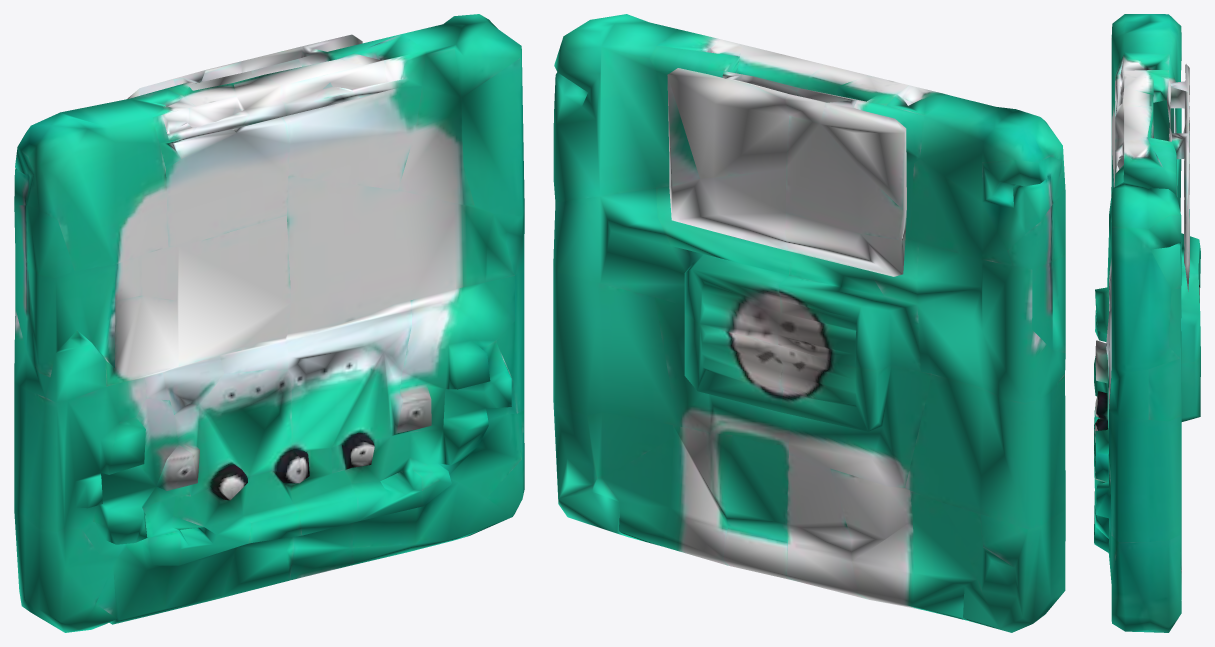
File: floppy.min.glb
3 views of the same model, side by side, from view 1: azimuth 30°, elevation 25°; view 2: azimuth 150°, elevation 25°; view 3: azimuth 270°, elevation 25° (orthographic). The views are drawn at different scales.
Size of the model in its own units: 1.9 by 1.87 by 0.4136.
Materials: 1 (1 with a texture image).
